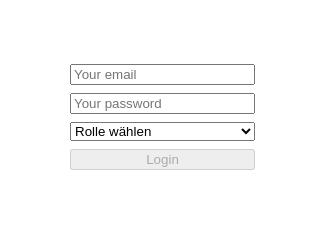
Test: LoginForm › shows the email and password messages for an invalid email and password inputs
Type "anna" into the field with placeholder "Your email".
click(162, 74); type("anna")  # box [70,64,255,85]
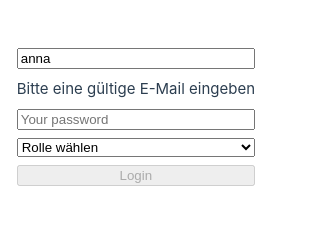
Expected: the text "Bitte eine gültige E-Mail eingeben" is shown, [17,77,255,101]
Type "fj1" into the password field with placeholder "Your password".
click(136, 120); type("fj1")  # box [17,109,255,130]
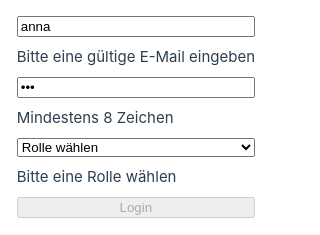
Expected: the text "Mindestens 8 Zeichen" is shown, [17,108,174,127]
